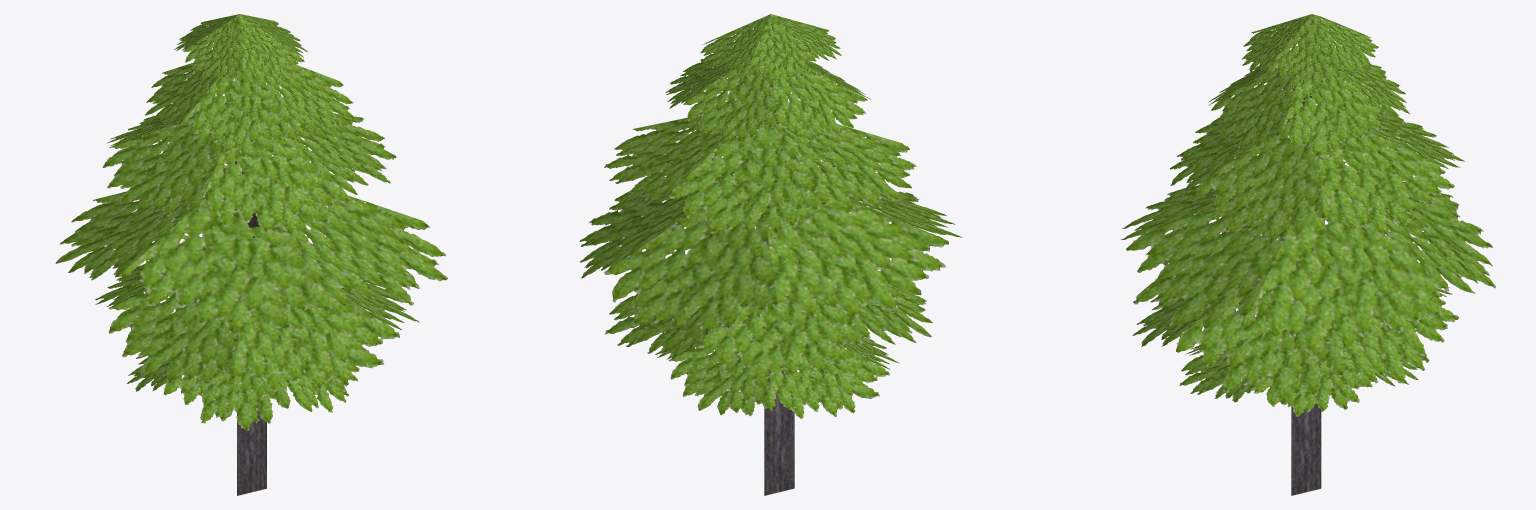
The model's file is Tree2.fbx.
3 views of the same model, side by side, from view 1: azimuth 30°, elevation 25°; view 2: azimuth 150°, elevation 25°; view 3: azimuth 270°, elevation 25° (orthographic).
Parts seen in each view (by area): view 1: Cone.003; view 2: Cone.003; view 3: Cone.003.
Boxes of the visible parts, box(x1,y1,x2,y2) form: Cone.003: box(55, 14, 447, 495); Cone.003: box(579, 14, 962, 495); Cone.003: box(1121, 14, 1495, 495).
Size of the model in its own units: 490 by 522 by 472.
1 material, 1 textured.
